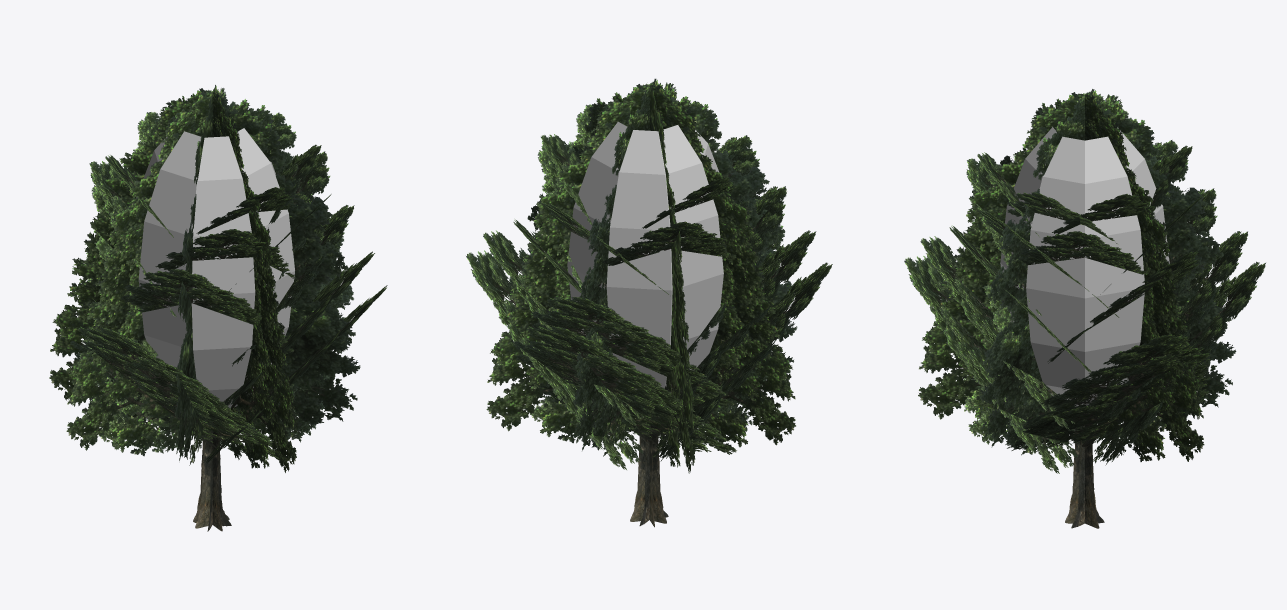
The model's file is Tree_06_WithBlob.fbx.
3 views of the same model, side by side, from view 1: azimuth 30°, elevation 25°; view 2: azimuth 150°, elevation 25°; view 3: azimuth 270°, elevation 25° (orthographic).
Parts seen in each view (by area): view 1: polySurface29; view 2: polySurface29; view 3: polySurface29.
Part boxes in pixels (x1,y1,x2,y2): polySurface29: [49, 85, 387, 531]; polySurface29: [466, 78, 832, 527]; polySurface29: [904, 89, 1265, 528].
Size of the model in its own units: 1240 by 1420 by 1164.
